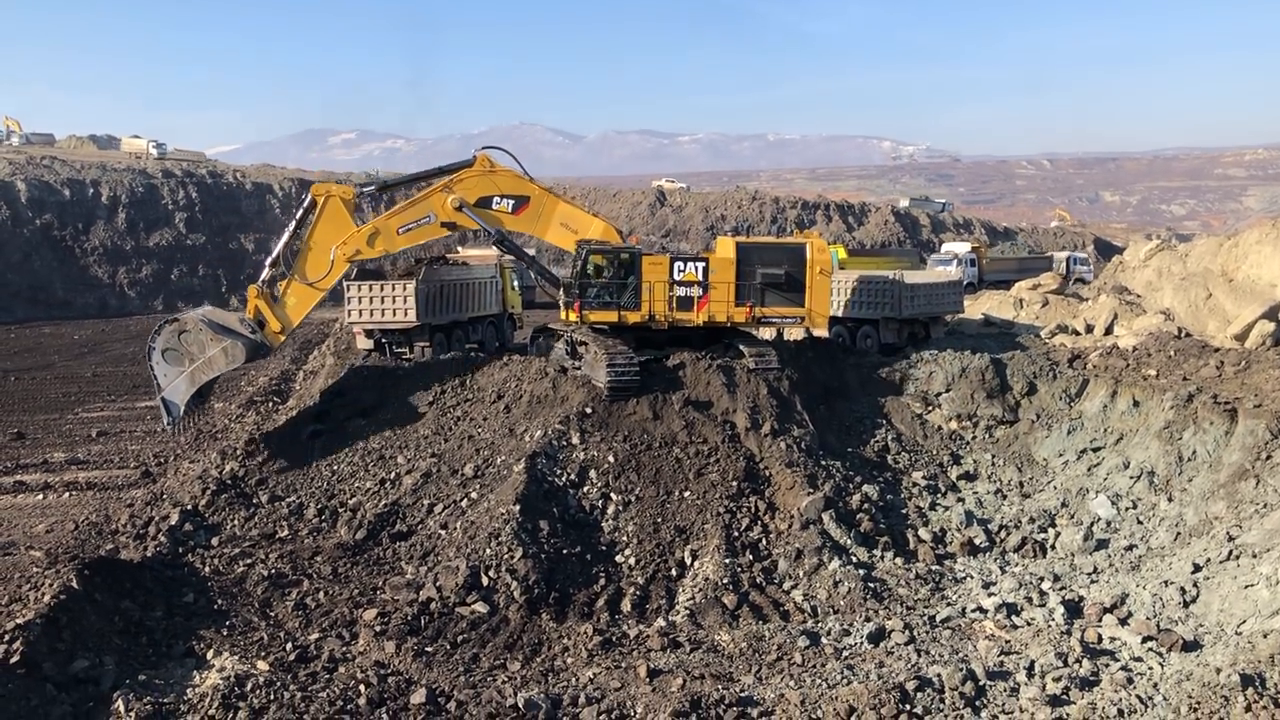empty: (128, 309, 283, 440)
